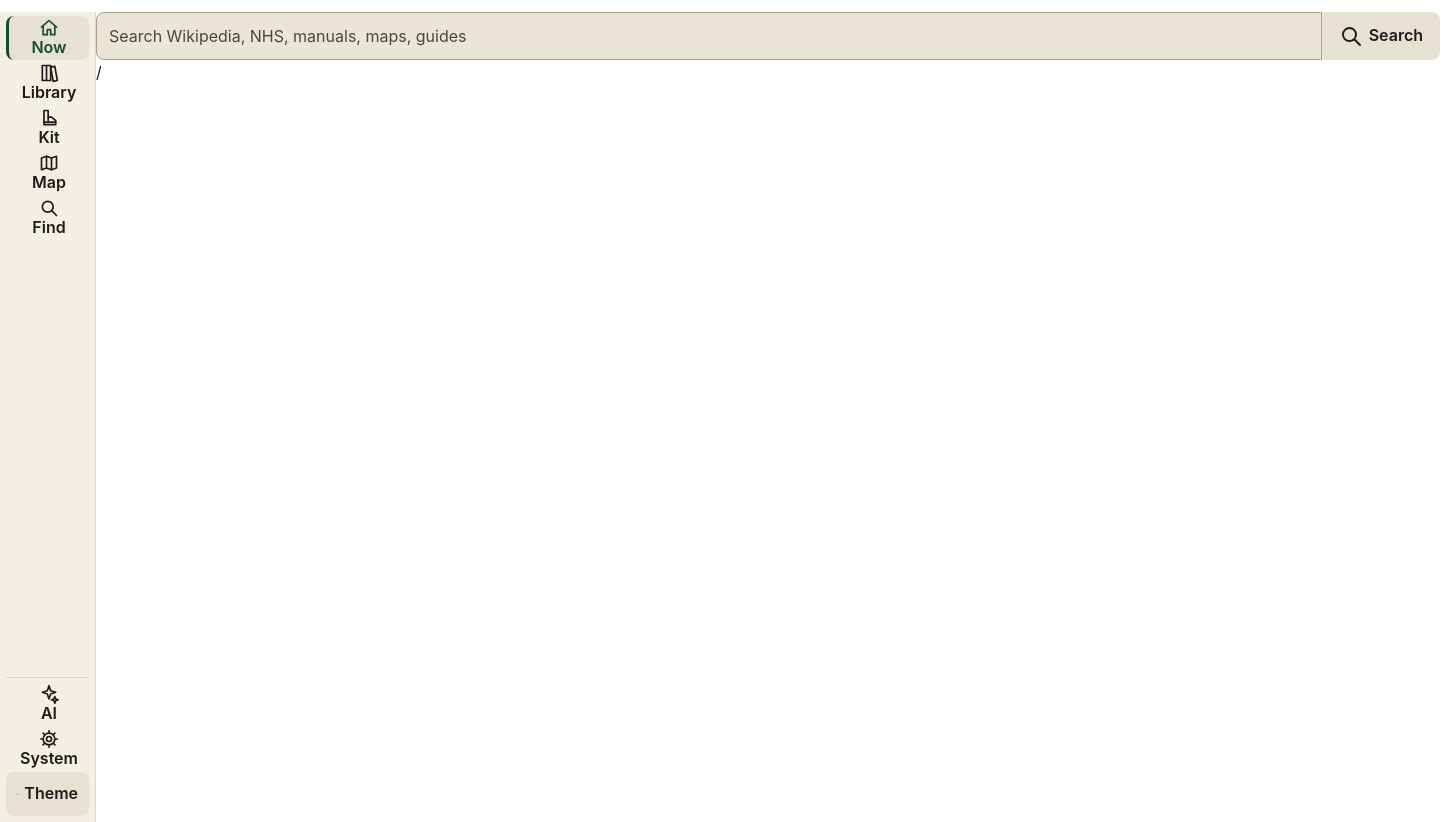
Test: SearchBar › picking a suggestion with a url follows it; without a url it searches
The width and height of the screenshot is (1452, 822).
Type "wat" into the dropdown labelled "Search" at (709, 36), box [96,12,1322,60]
Wait 250 ms
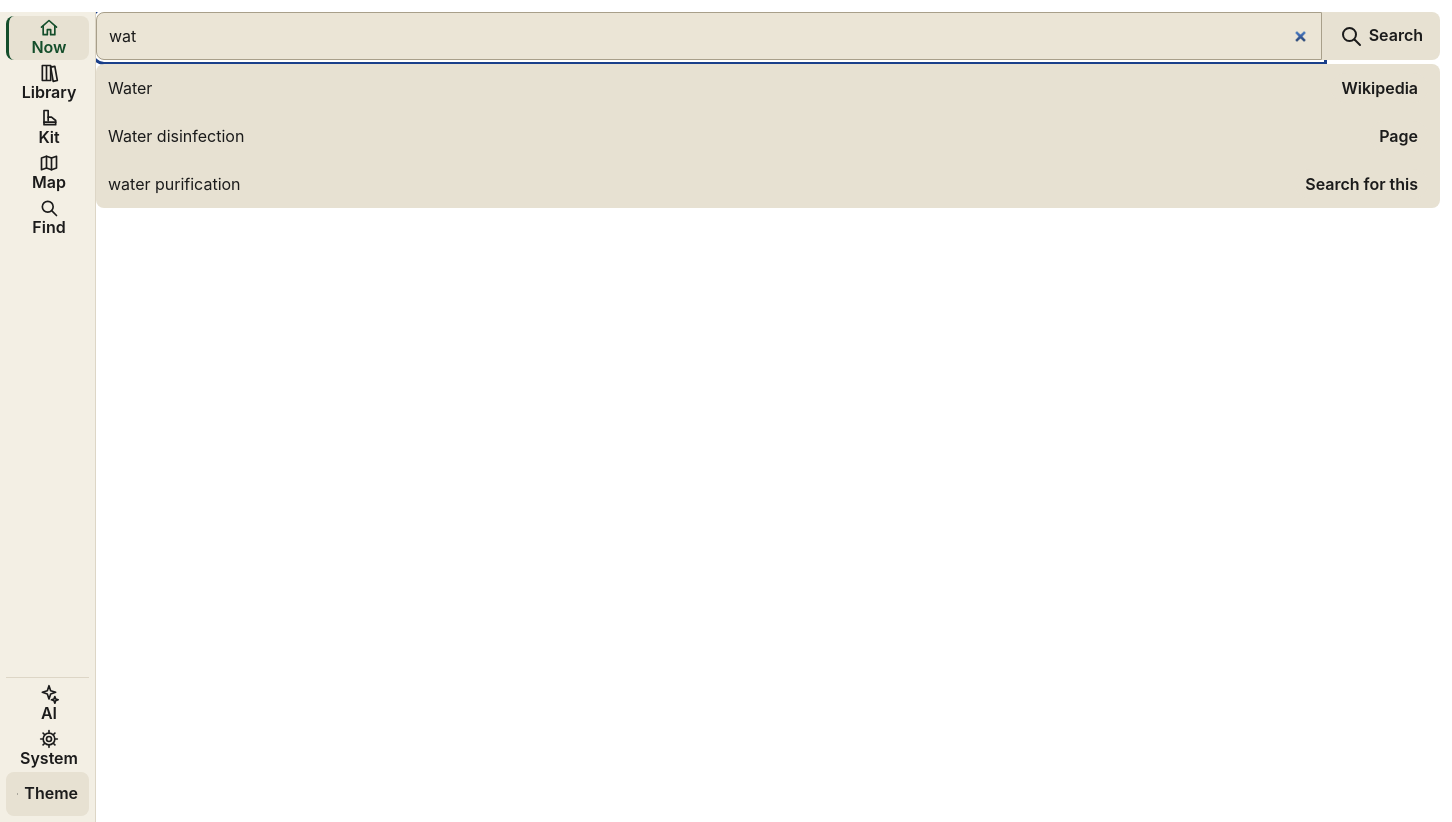
Click the option "Water disinfection Page" at (768, 136), box [96,112,1440,160]
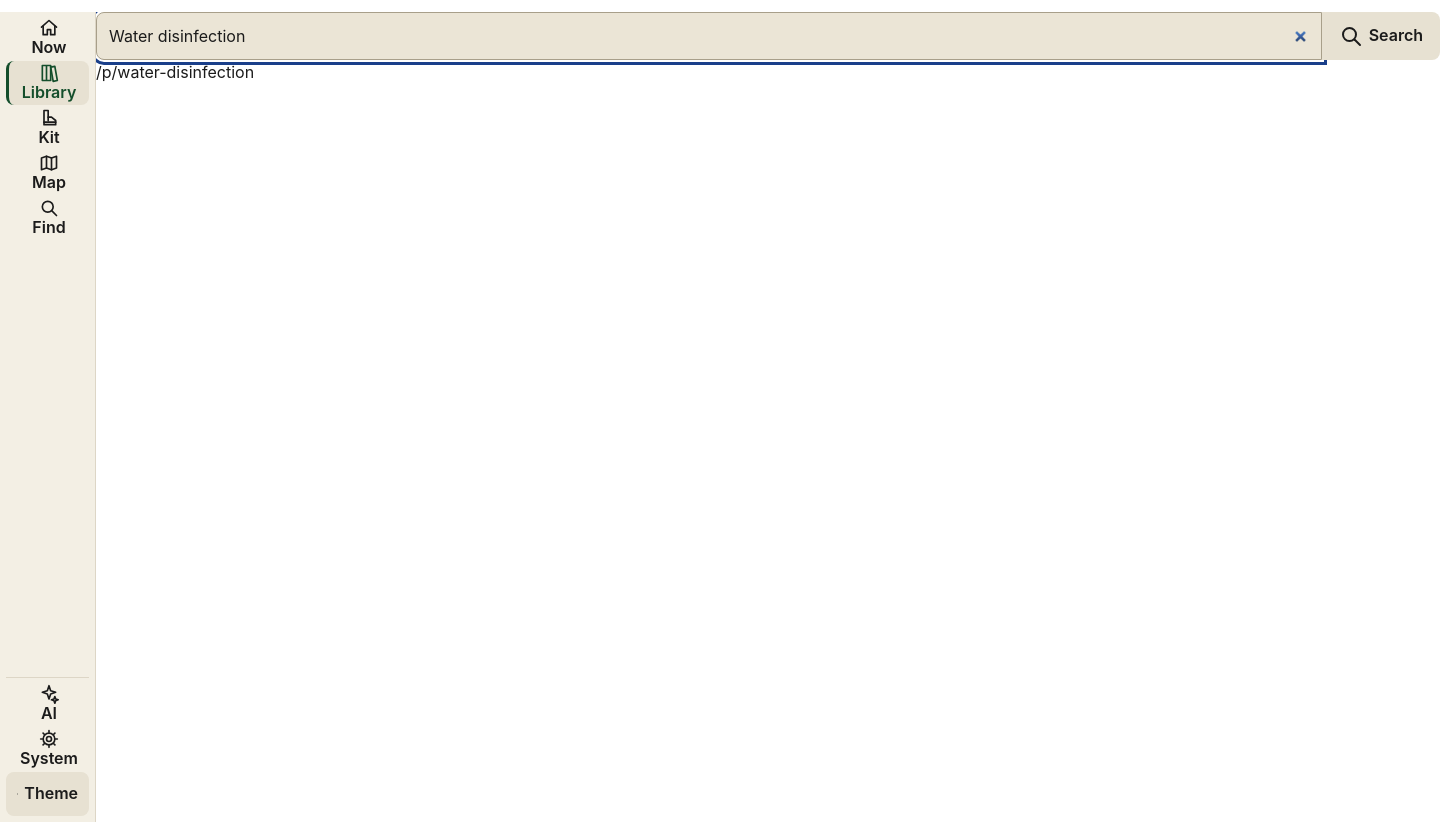
Expected: the text with test id "where" reads "/p/water-disinfection", [96,62,254,82]
Replace the text in the dropdown named "Search" with "wat" at (709, 36), box [96,12,1322,60]
Wait 250 ms
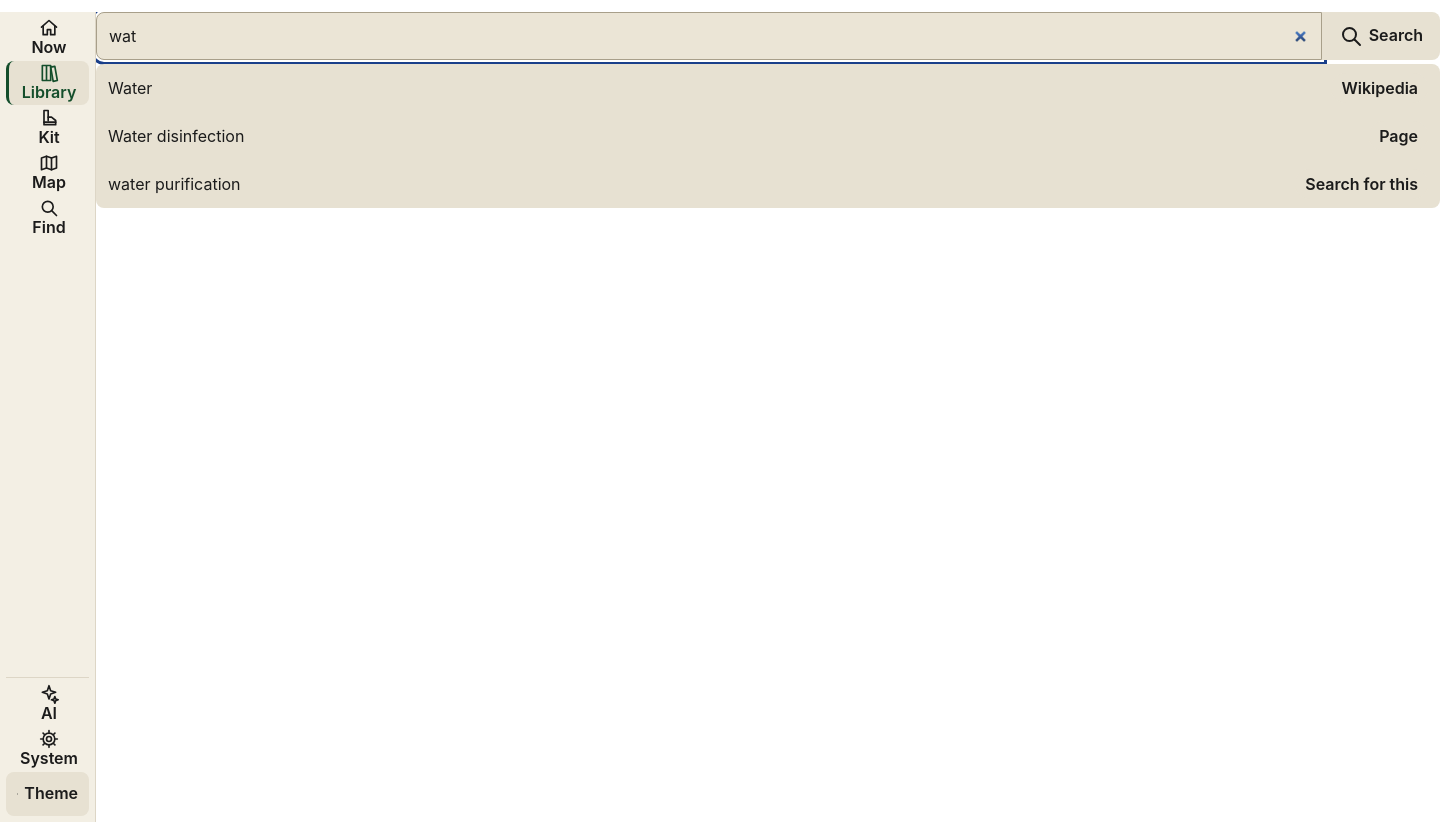
Click the option "water purification Search for this" at (768, 184), box [96,160,1440,208]
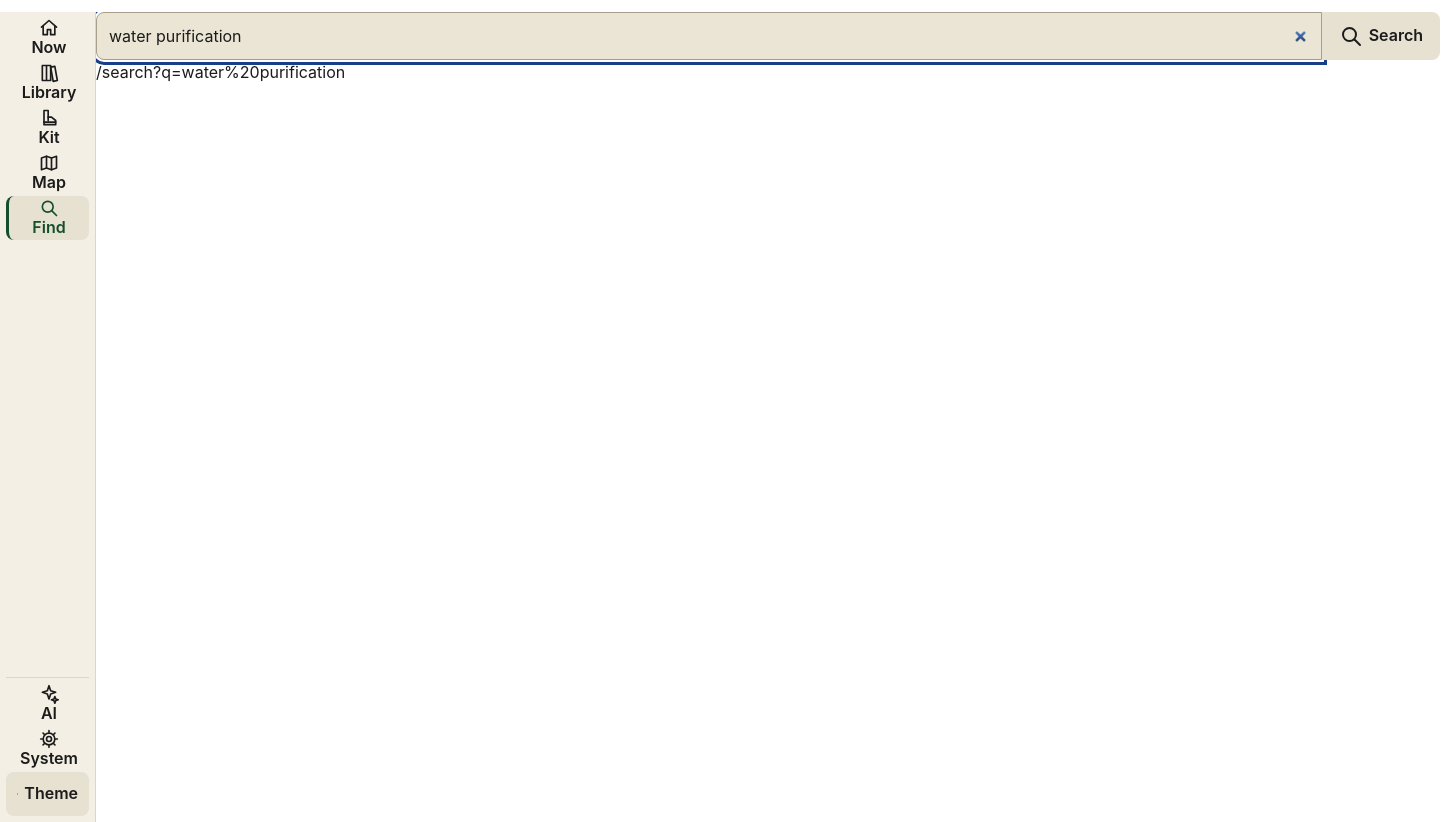
Expected: the text with test id "where" reads "/search?q=water%20purification", [96,62,345,82]
